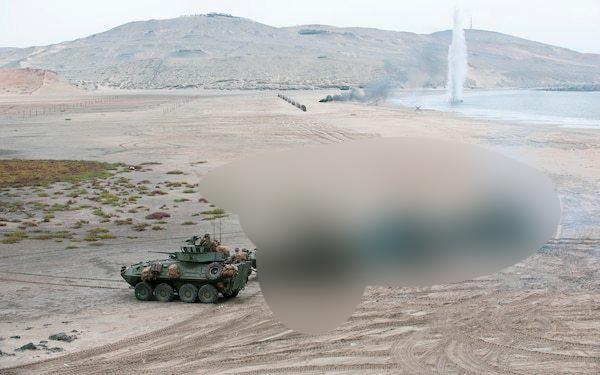armored_car: (120, 233, 257, 303)
